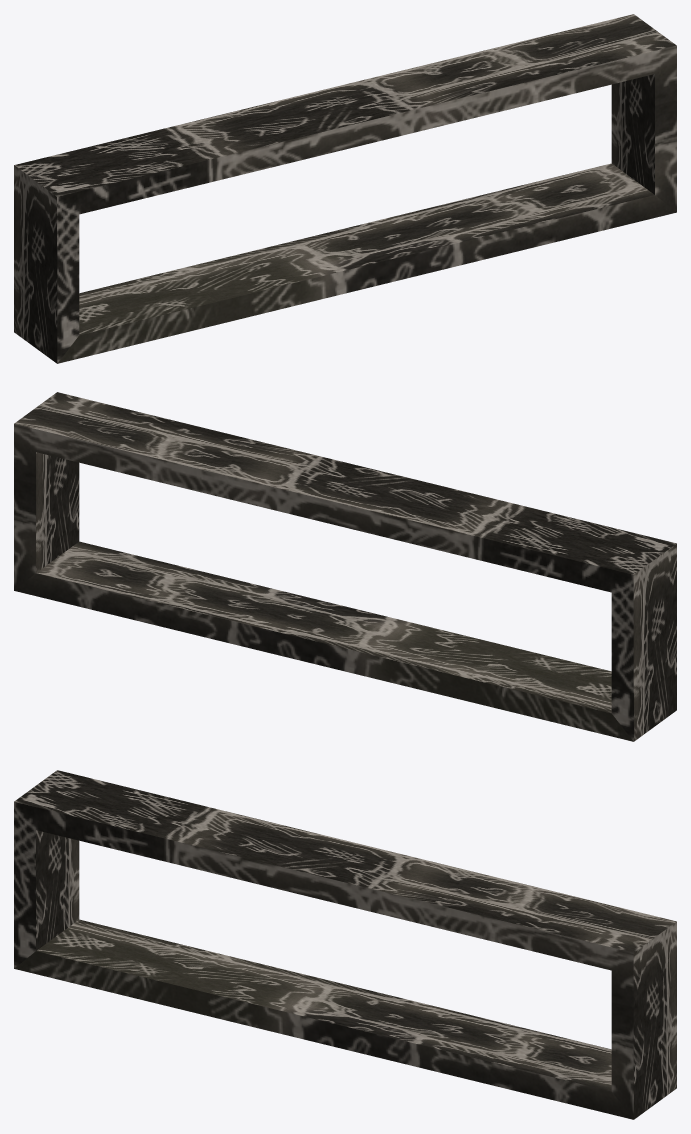
File: vent.glb
3 renders of one model, top to bottom at view 1: azimuth 30°, elevation 25°; view 2: azimuth 150°, elevation 25°; view 3: azimuth 330°, elevation 25°, orthographic.
Parts seen in each view (by area): view 1: Vent; view 2: Vent; view 3: Vent.
Boxes of the visible parts, left/top/right/bottom form: Vent: left=14, top=14, right=676, bottom=363; Vent: left=14, top=392, right=676, bottom=741; Vent: left=14, top=770, right=676, bottom=1119.
Size of the model in its own units: 0.8862 by 0.2284 by 0.1069.
1 material, 1 textured.
